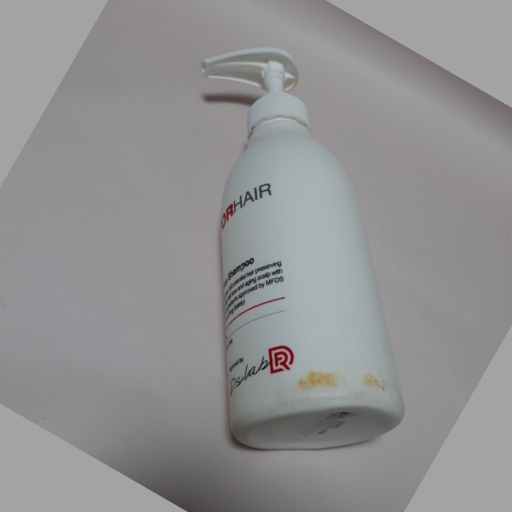Plastic_3: (198, 45, 404, 450)
